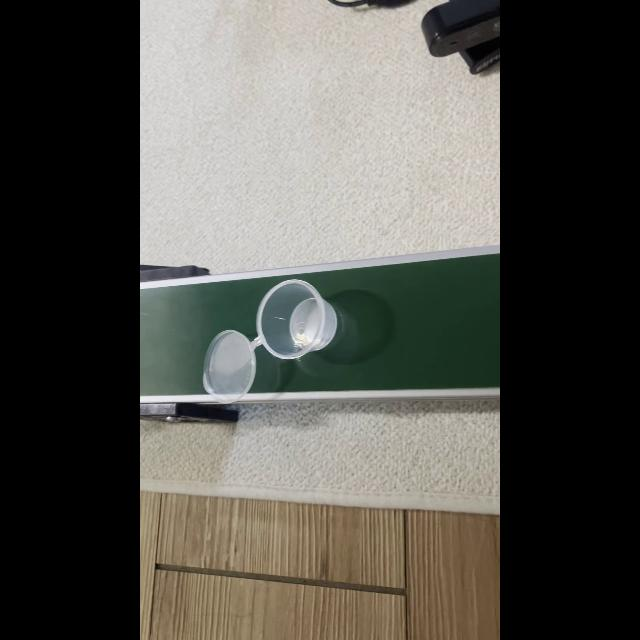clean: (258, 283, 328, 353), (202, 339, 254, 391)
